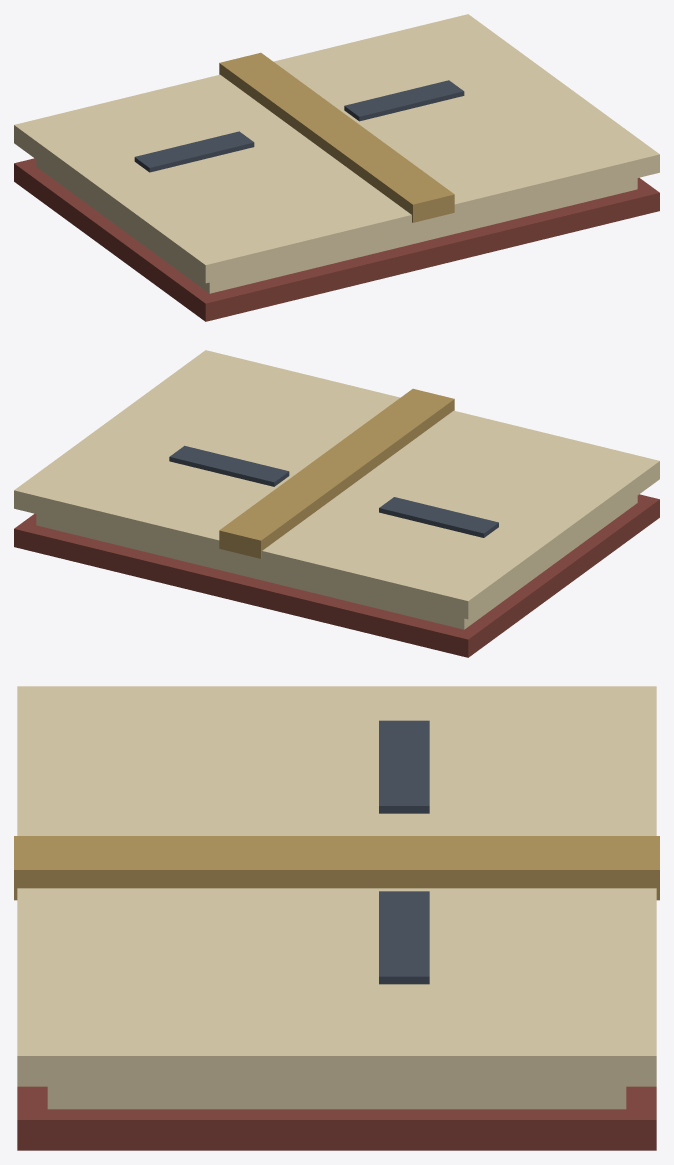
File: VIC_L01_FOLIO_Roblox.fbx
The picture shows the model from 3 angles, top to bottom: view 1: azimuth 30°, elevation 25°; view 2: azimuth 150°, elevation 25°; view 3: azimuth 270°, elevation 25°; orthographic projection. The views are drawn at different scales.
Visible parts, largest first — view 1: VIC_L01_FOLIO__Paper, VIC_L01_FOLIO__Oxblood, VIC_L01_FOLIO__Brass, VIC_L01_FOLIO__Ink; view 2: VIC_L01_FOLIO__Paper, VIC_L01_FOLIO__Oxblood, VIC_L01_FOLIO__Brass, VIC_L01_FOLIO__Ink; view 3: VIC_L01_FOLIO__Paper, VIC_L01_FOLIO__Brass, VIC_L01_FOLIO__Oxblood, VIC_L01_FOLIO__Ink.
Boxes of the visible parts, left/top/right/bottom form: VIC_L01_FOLIO__Paper: left=14, top=14, right=659, bottom=293; VIC_L01_FOLIO__Oxblood: left=14, top=158, right=659, bottom=321; VIC_L01_FOLIO__Brass: left=219, top=52, right=454, bottom=222; VIC_L01_FOLIO__Ink: left=134, top=80, right=464, bottom=172; VIC_L01_FOLIO__Paper: left=14, top=350, right=659, bottom=629; VIC_L01_FOLIO__Oxblood: left=14, top=494, right=659, bottom=657; VIC_L01_FOLIO__Brass: left=219, top=388, right=454, bottom=558; VIC_L01_FOLIO__Ink: left=169, top=445, right=498, bottom=537; VIC_L01_FOLIO__Paper: left=17, top=686, right=656, bottom=1109; VIC_L01_FOLIO__Brass: left=14, top=836, right=659, bottom=900; VIC_L01_FOLIO__Oxblood: left=17, top=1086, right=656, bottom=1150; VIC_L01_FOLIO__Ink: left=379, top=720, right=429, bottom=984.
Bounding box in the file's own units: 2.6 × 0.37 × 1.92.
